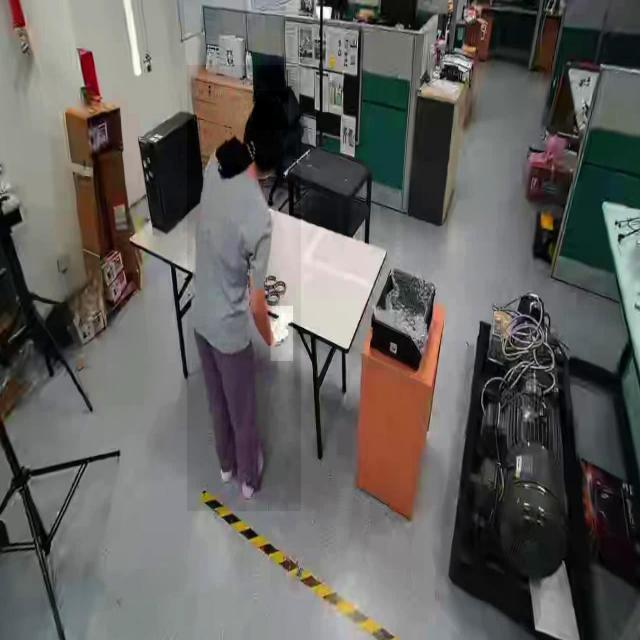gloves: (270, 306, 294, 362)
